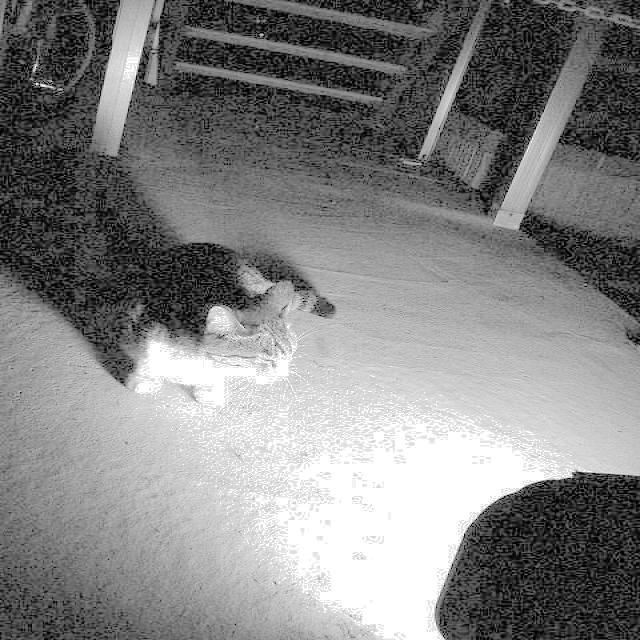Cat: (114, 242, 364, 442)
